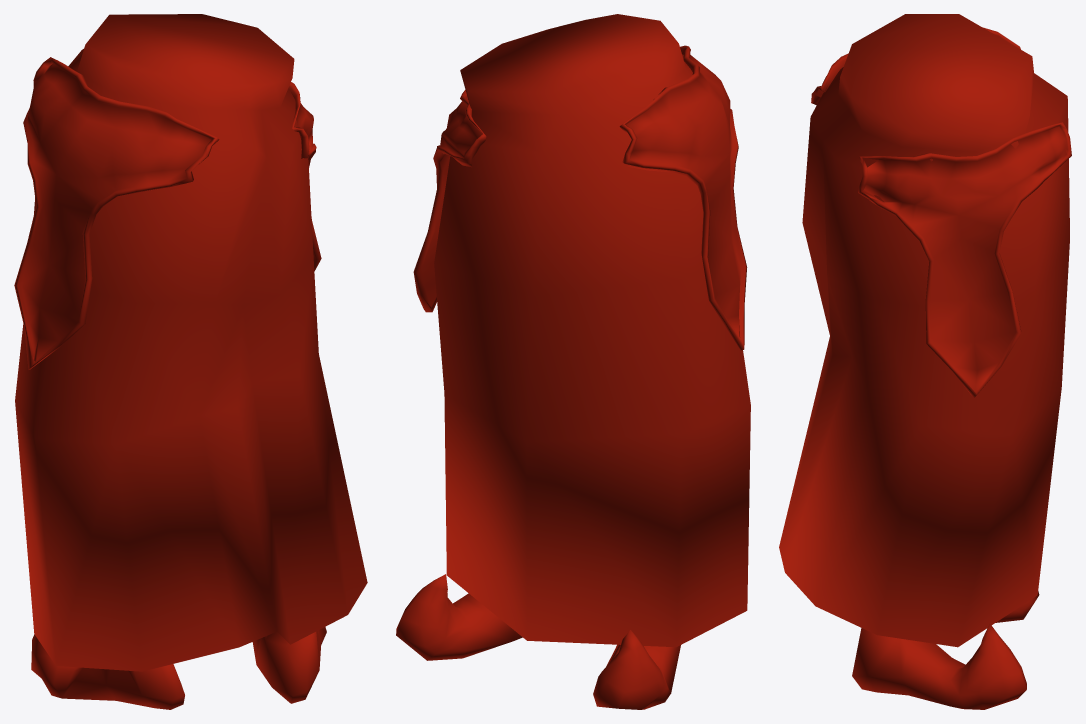
File: bot_000144.obj
3 views of the same model, side by side, from view 1: azimuth 30°, elevation 25°; view 2: azimuth 150°, elevation 25°; view 3: azimuth 270°, elevation 25° (orthographic). The views are drawn at different scales.
Parts seen in each view (by area): view 1: LowPoly_Warlock.004_Plane.004; view 2: LowPoly_Warlock.004_Plane.004; view 3: LowPoly_Warlock.004_Plane.004.
Part boxes in pixels (x1,y1,x2,y2): LowPoly_Warlock.004_Plane.004: [14, 14, 367, 709]; LowPoly_Warlock.004_Plane.004: [396, 14, 750, 709]; LowPoly_Warlock.004_Plane.004: [779, 14, 1071, 709].
Bounding box in the file's own units: 0.5712 × 1.13 × 0.4967.
